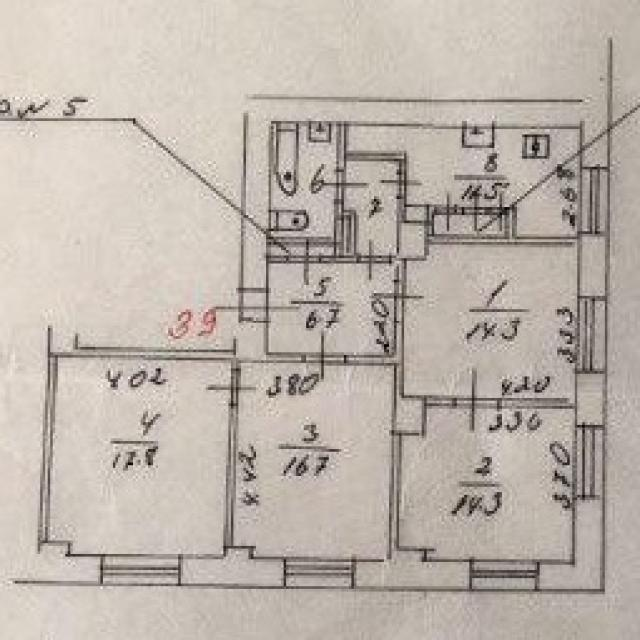Bathrooms: (269, 125, 336, 255)
Corridors: (269, 263, 394, 352), (268, 263, 393, 350), (344, 161, 396, 255), (436, 217, 502, 232)
Doors: (453, 367, 500, 437), (212, 290, 302, 323), (300, 329, 346, 385), (371, 281, 426, 324), (462, 192, 511, 233), (204, 369, 257, 406), (319, 169, 371, 203), (287, 239, 321, 286), (356, 237, 391, 281), (379, 170, 425, 198), (435, 192, 464, 232)
LBwalls: (238, 94, 612, 289), (539, 498, 606, 594), (355, 547, 468, 592), (179, 546, 284, 589), (32, 540, 100, 586), (578, 234, 607, 297), (576, 373, 607, 427), (392, 394, 428, 437), (233, 323, 269, 363), (397, 221, 431, 260), (46, 325, 79, 358)
Offices: (48, 359, 232, 554), (234, 366, 392, 558), (399, 410, 576, 560), (406, 246, 576, 397), (348, 126, 580, 235)
Walls: (432, 206, 579, 246), (345, 322, 405, 396), (38, 358, 59, 543), (335, 125, 408, 172), (321, 202, 358, 264), (223, 405, 239, 547), (79, 347, 235, 359), (390, 437, 400, 547), (397, 196, 434, 221), (501, 398, 576, 410), (268, 352, 304, 362), (427, 395, 453, 408), (397, 259, 407, 281), (269, 255, 288, 264), (231, 360, 241, 370), (391, 255, 397, 263)
Windows: (100, 553, 181, 587), (576, 296, 609, 374), (572, 424, 606, 498), (468, 558, 540, 592), (284, 556, 356, 589), (579, 167, 610, 235)
